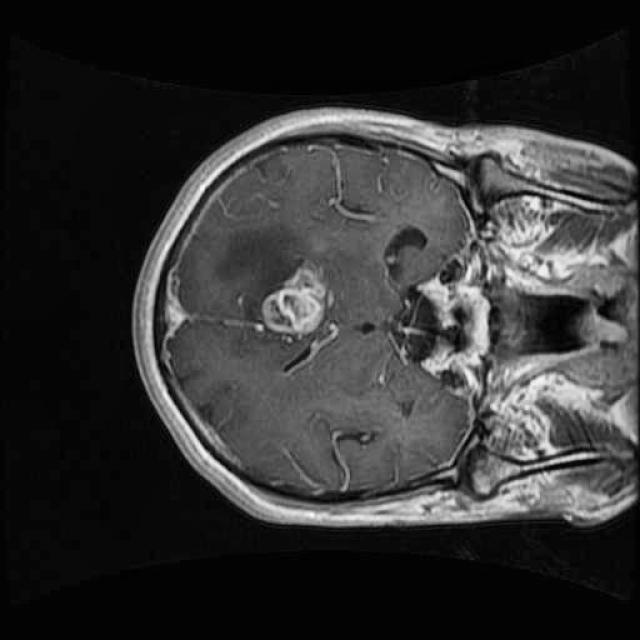Tumor: (254, 255, 340, 354)
